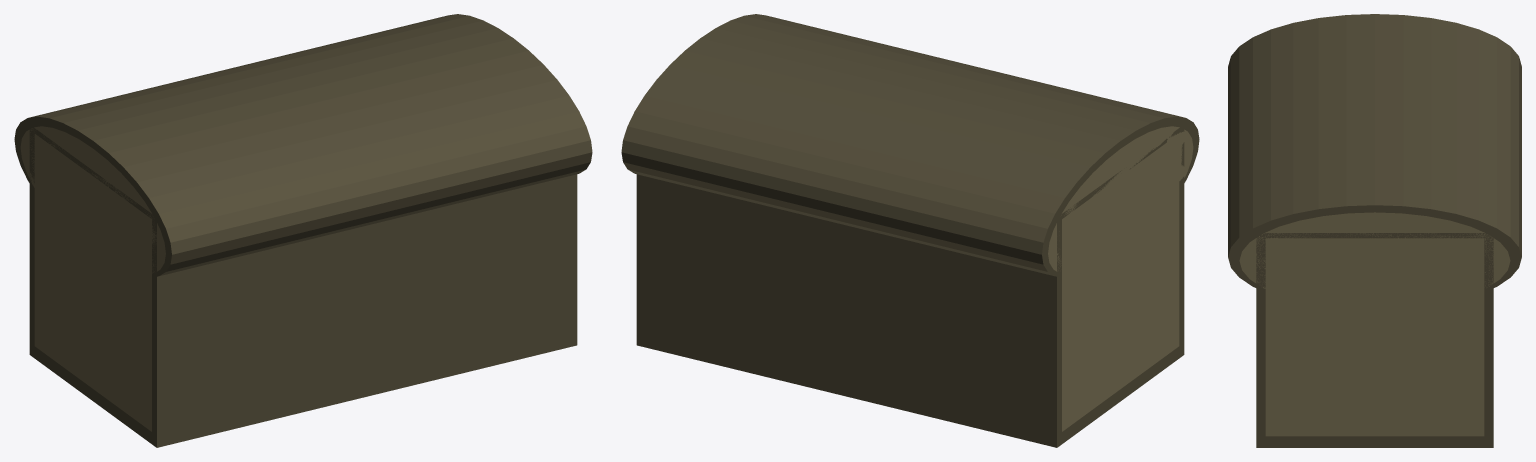
The model's file is Bread.fbx.
3 renders of one model, left to right at view 1: azimuth 30°, elevation 25°; view 2: azimuth 150°, elevation 25°; view 3: azimuth 270°, elevation 25°, orthographic. The views are drawn at different scales.
Visible parts, largest first — view 1: Bread; view 2: Bread; view 3: Bread.
Part boxes in pixels (bbox=[...]): Bread: bbox=[14, 14, 592, 447]; Bread: bbox=[621, 14, 1199, 447]; Bread: bbox=[1228, 14, 1521, 447].
Size of the model in its own units: 414 by 245 by 269.
